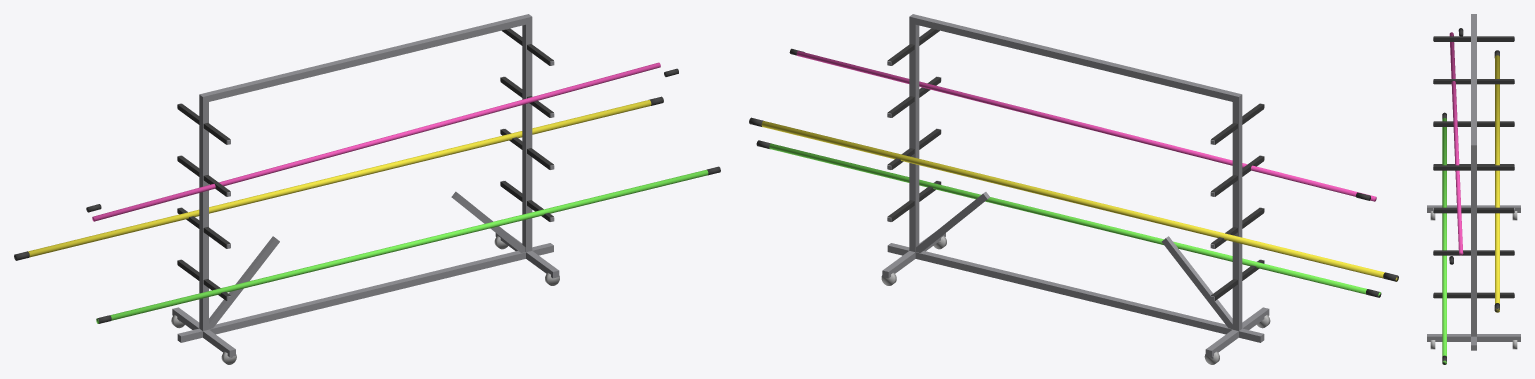
File: Pole rack_storage.glb
The picture shows the model from 3 angles, left to right: view 1: azimuth 30°, elevation 25°; view 2: azimuth 150°, elevation 25°; view 3: azimuth 270°, elevation 25°; orthographic projection. The views are drawn at different scales.
Visible parts, largest first — view 1: VaultPole_2, VaultPole_1, Rack_Base_Long, Rack_Top_Bar, VaultPole_3, Rack_Upright_R, Rack_Upright_L, Rack_Brace_L, Rack_Base_Cross_L, Rack_Brace_R; view 2: VaultPole_2, Rack_Base_Long, VaultPole_1, Rack_Top_Bar, VaultPole_3, Rack_Upright_R, Rack_Upright_L, Rack_Brace_L, Rack_Brace_R, Rack_Base_Cross_L; view 3: VaultPole_2, Rack_Upright_R, VaultPole_1, VaultPole_3, Rack_Top_Bar, Rack_Base_Cross_R, Rack_Peg_Rubber_R_Tier2, Rack_Peg_Rubber_R_Tier0, Rack_Peg_Rubber_L_Tier3, Rack_Peg_Rubber_R_Tier3, Rack_Peg_Rubber_L_Tier2, Rack_Peg_Rubber_L_Tier1 (+3 smaller).
Part boxes in pixels (<box>): VaultPole_2: <box>28,100,651,257</box>; VaultPole_1: <box>96,169,708,323</box>; Rack_Base_Long: <box>177,243,553,342</box>; Rack_Top_Bar: <box>199,14,532,102</box>; VaultPole_3: <box>92,62,660,221</box>; Rack_Upright_R: <box>522,20,532,252</box>; Rack_Upright_L: <box>199,100,208,330</box>; Rack_Brace_L: <box>209,236,279,329</box>; Rack_Base_Cross_L: <box>172,307,235,357</box>; Rack_Brace_R: <box>451,191,525,252</box>; VaultPole_2: <box>761,121,1397,281</box>; Rack_Base_Long: <box>887,243,1264,342</box>; VaultPole_1: <box>769,143,1380,296</box>; Rack_Top_Bar: <box>909,14,1242,103</box>; VaultPole_3: <box>796,51,1376,201</box>; Rack_Upright_R: <box>909,20,919,252</box>; Rack_Upright_L: <box>1232,101,1242,330</box>; Rack_Brace_L: <box>1161,236,1232,329</box>; Rack_Brace_R: <box>916,192,989,252</box>; Rack_Base_Cross_L: <box>1205,307,1269,357</box>; VaultPole_2: <box>1495,55,1499,312</box>; Rack_Upright_R: <box>1471,150,1476,336</box>; VaultPole_1: <box>1442,117,1446,364</box>; VaultPole_3: <box>1449,32,1463,255</box>; Rack_Top_Bar: <box>1471,14,1476,150</box>; Rack_Base_Cross_R: <box>1427,334,1520,341</box>; Rack_Peg_Rubber_R_Tier2: <box>1434,207,1513,213</box>; Rack_Peg_Rubber_R_Tier0: <box>1434,292,1513,298</box>; Rack_Peg_Rubber_L_Tier3: <box>1434,36,1513,41</box>; Rack_Peg_Rubber_R_Tier3: <box>1434,165,1513,170</box>; Rack_Peg_Rubber_L_Tier2: <box>1434,79,1513,84</box>; Rack_Peg_Rubber_L_Tier1: <box>1434,121,1513,126</box>.
Size of the model in its own units: 5.4 by 1.92 by 0.8.
